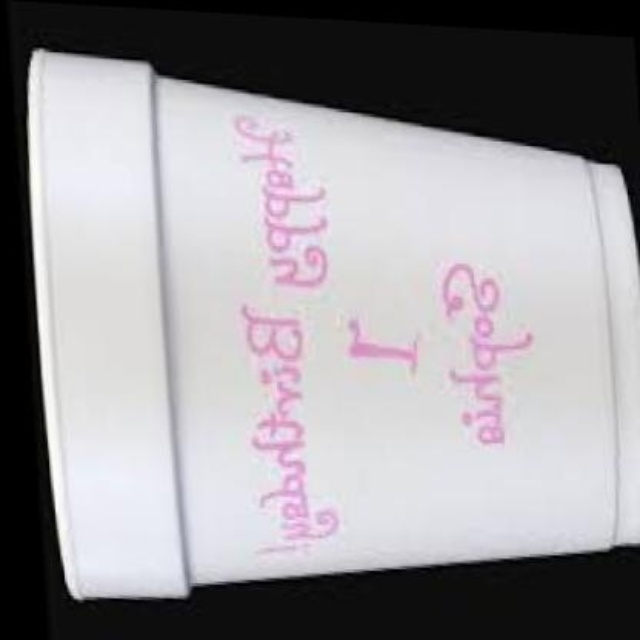trash: (29, 51, 638, 597)
